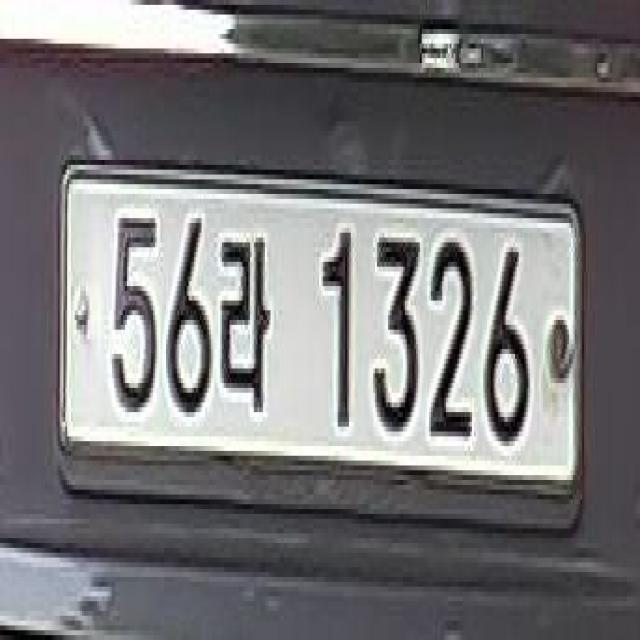1: (312, 206, 360, 434)
2: (424, 216, 478, 442)
3: (367, 210, 422, 434)
5: (106, 202, 160, 414)
6: (482, 227, 532, 452), (164, 200, 214, 418)
la: (216, 204, 277, 420)
license_plate: (58, 150, 588, 544)
